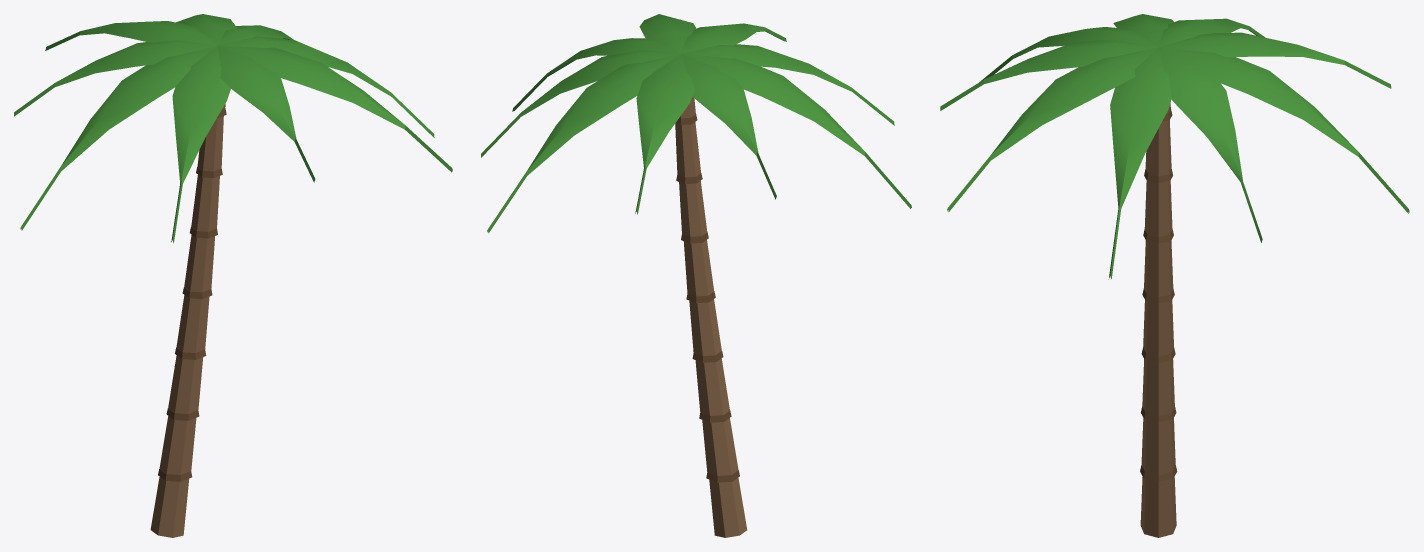
Rendered from palm.glb.
3 views of the same model, side by side, from view 1: azimuth 30°, elevation 25°; view 2: azimuth 150°, elevation 25°; view 3: azimuth 270°, elevation 25° (orthographic). The views are drawn at different scales.
Visible parts, largest first — view 1: PROP_palm; view 2: PROP_palm; view 3: PROP_palm.
Boxes of the visible parts, x1,y1,x2,y2 form: PROP_palm: [14, 14, 452, 537]; PROP_palm: [481, 14, 911, 537]; PROP_palm: [940, 14, 1409, 537].
Size of the model in its own units: 6.84 by 7.64 by 6.34.
